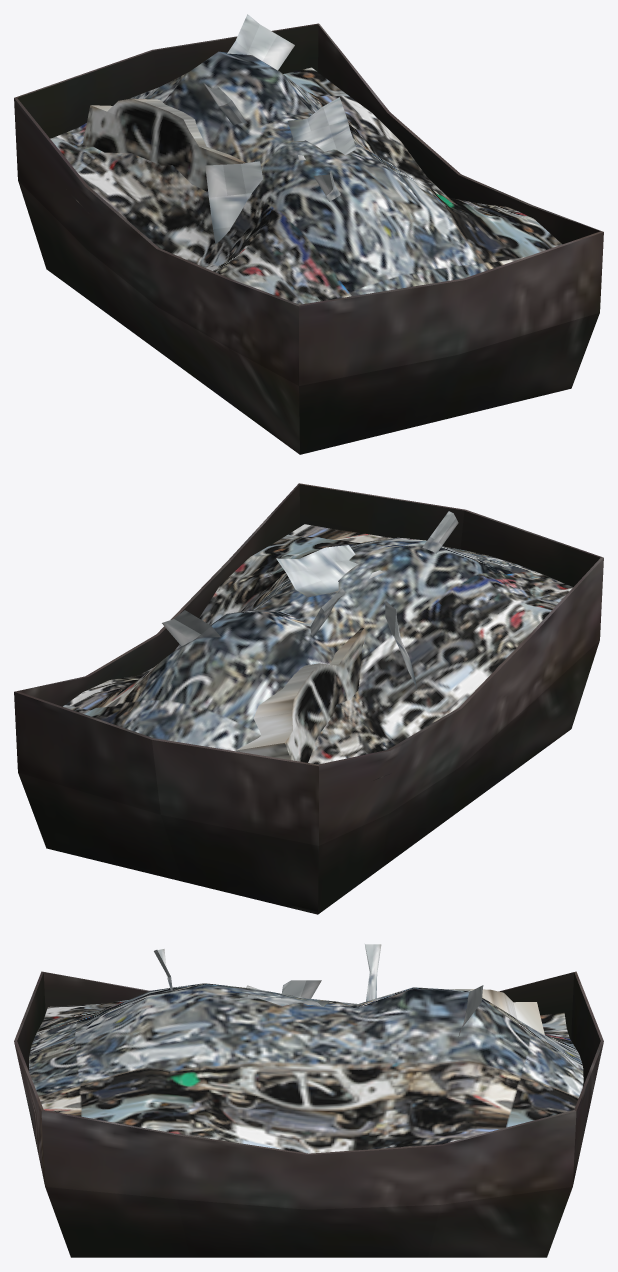
The model's file is metal_dumpster.glb.
3 renders of one model, top to bottom at view 1: azimuth 30°, elevation 25°; view 2: azimuth 150°, elevation 25°; view 3: azimuth 270°, elevation 25°, orthographic. The views are drawn at different scales.
Visible parts, largest first — view 1: MetalCasingMetal, Metal, Metal.001, Metal.004, Metal.002, Metal.003, Metal.006; view 2: MetalCasingMetal, Metal, Metal.001, Metal.002, Metal.003, Metal.005, Metal.004; view 3: Metal, MetalCasingMetal, Metal.001, Metal.006, Metal.004, Metal.002.
Boxes of the visible parts, x1,y1,x2,y2 form: MetalCasingMetal: (14,23,603,454); Metal: (50,51,562,304); Metal.001: (82,98,245,191); Metal.004: (205,161,262,244); Metal.002: (287,97,356,160); Metal.003: (227,14,294,70); Metal.006: (203,83,247,125); MetalCasingMetal: (14,483,603,914); Metal: (63,524,573,780); Metal.001: (236,628,365,762); Metal.002: (276,545,383,597); Metal.003: (162,610,220,646); Metal.005: (422,511,458,553); Metal.004: (385,601,416,692); Metal: (29,983,583,1153); MetalCasingMetal: (14,971,603,1257); Metal.001: (449,989,544,1034); Metal.006: (365,944,381,1001); Metal.004: (282,980,321,998); Metal.002: (227,985,329,1006).
Bounding box in the file's own units: 15.58 × 11.68 × 27.8.
2 materials, 2 textured.
